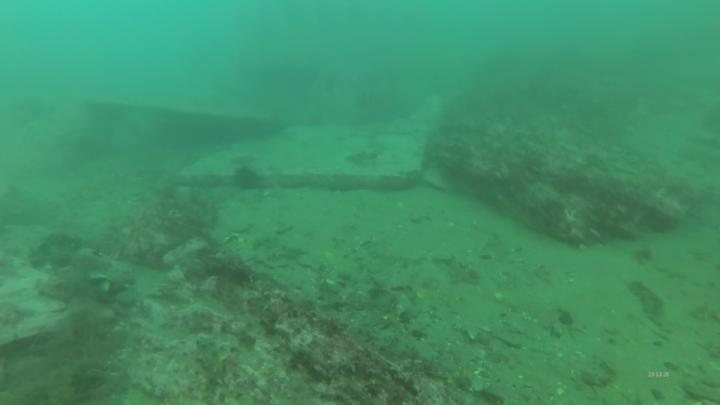echinus: (235, 164, 261, 189)
starfish: (90, 263, 134, 298)
